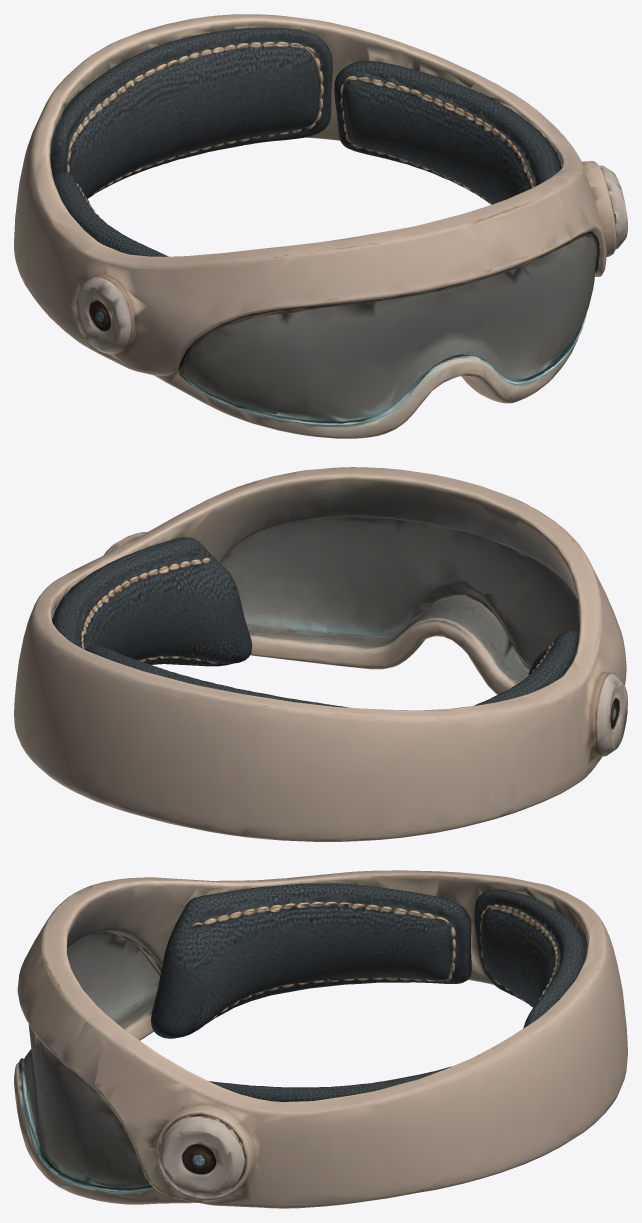
Rendered from headset.medium.glb.
3 views of the same model, one above another, from view 1: azimuth 30°, elevation 25°; view 2: azimuth 150°, elevation 25°; view 3: azimuth 270°, elevation 25° (orthographic). The views are drawn at different scales.
Visible parts, largest first — view 1: tripo_node_df2202d5-7eec-4927-8cea-a10c34fa3301; view 2: tripo_node_df2202d5-7eec-4927-8cea-a10c34fa3301; view 3: tripo_node_df2202d5-7eec-4927-8cea-a10c34fa3301.
Part boxes in pixels (x1,y1,x2,y2): tripo_node_df2202d5-7eec-4927-8cea-a10c34fa3301: (14,14,627,438); tripo_node_df2202d5-7eec-4927-8cea-a10c34fa3301: (14,467,627,841); tripo_node_df2202d5-7eec-4927-8cea-a10c34fa3301: (14,870,627,1208).
Size of the model in its own units: 0.2 by 0.0721 by 0.2041.
1 material, 1 textured.
